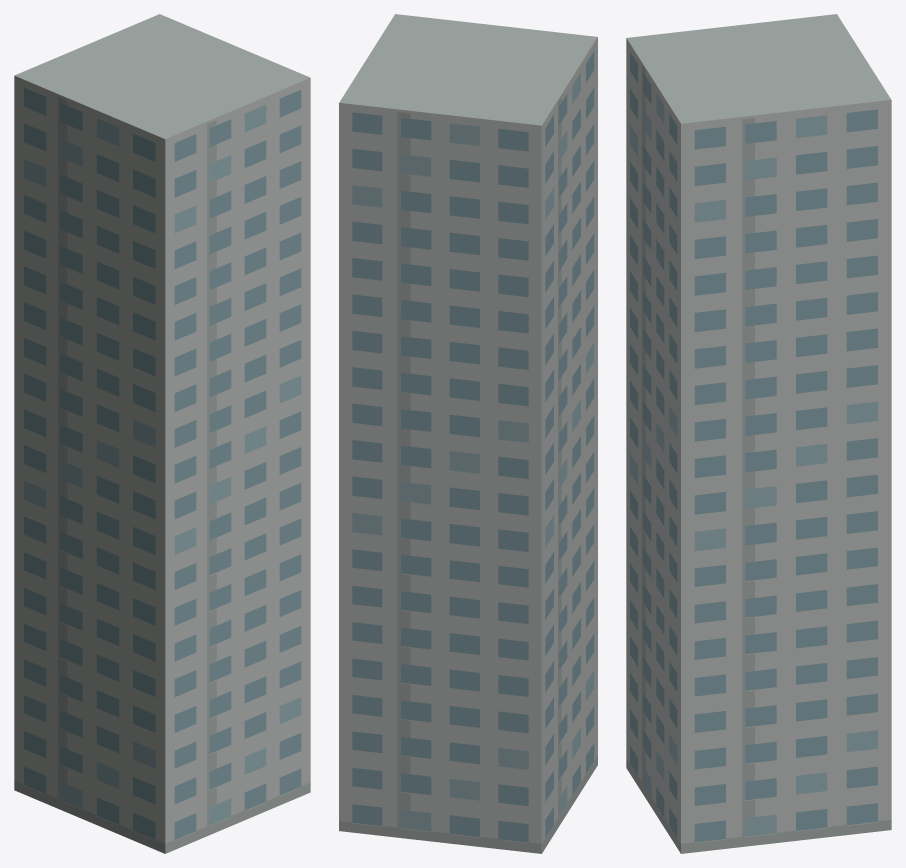
Rendered from residential-c178f1b3-6b06-403d-9502-80b292e3a08c.glb.
3 views of the same model, side by side, from view 1: azimuth 30°, elevation 25°; view 2: azimuth 150°, elevation 25°; view 3: azimuth 270°, elevation 25° (orthographic). The views are drawn at different scales.
Parts seen in each view (by area): view 1: residential-c178f1b3-6b06-403d-9502-80b292e3a08c.tmp; view 2: residential-c178f1b3-6b06-403d-9502-80b292e3a08c.tmp; view 3: residential-c178f1b3-6b06-403d-9502-80b292e3a08c.tmp.
Part boxes in pixels (left/top/right/bottom): residential-c178f1b3-6b06-403d-9502-80b292e3a08c.tmp: left=14, top=14, right=310, bottom=853; residential-c178f1b3-6b06-403d-9502-80b292e3a08c.tmp: left=339, top=14, right=597, bottom=853; residential-c178f1b3-6b06-403d-9502-80b292e3a08c.tmp: left=626, top=14, right=891, bottom=853.
Size of the model in its own units: 22.9 by 71 by 23.37.
